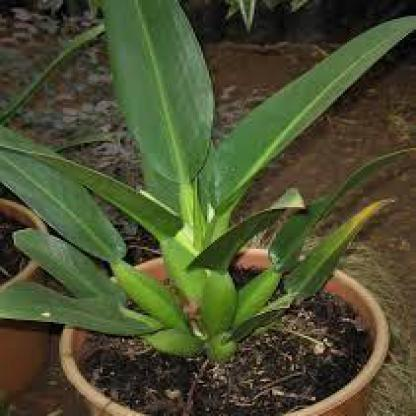Kenanga: (45, 228, 184, 395), (94, 36, 121, 64)
